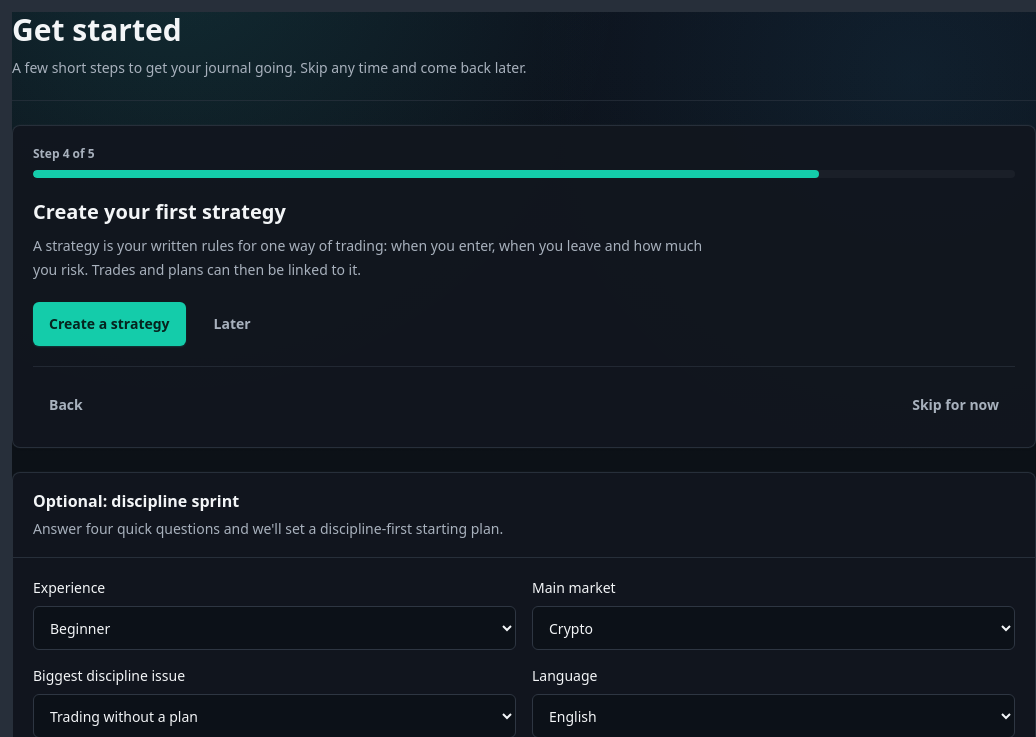
Test case: the history step › shows the step as done when the person already has trades of their own
This screenshot has width=1036, height=737.
Note: ... and Back shows it as done, with a way on.
Click the button "Back".
click(66, 405)  # box x1=33 y1=383 x2=99 y2=427
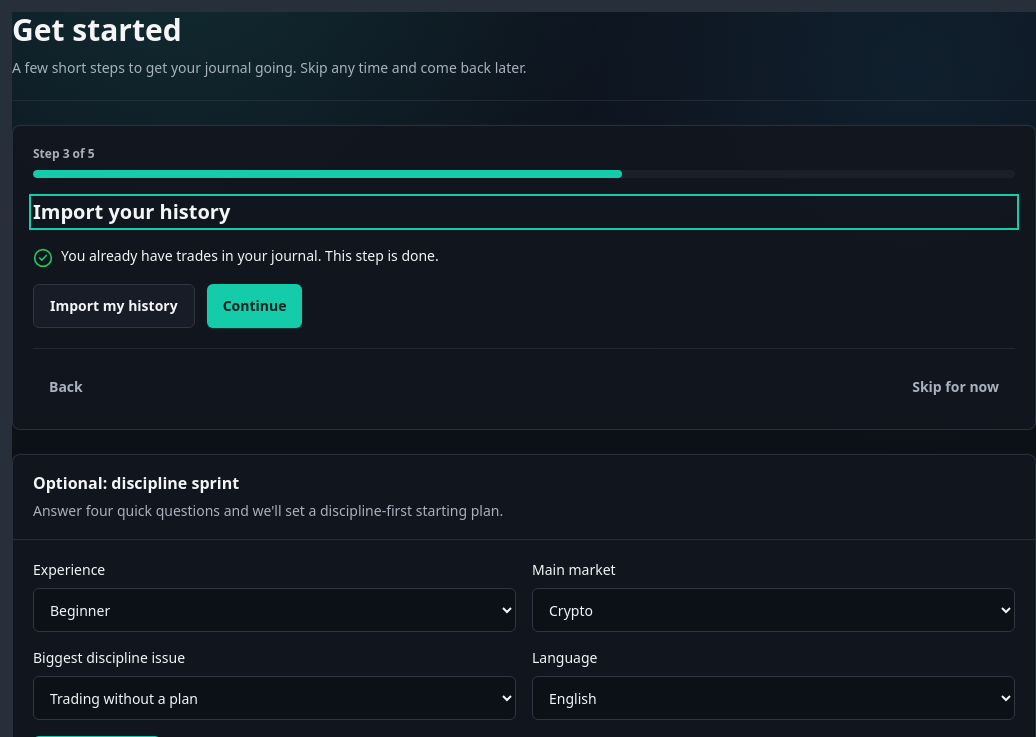
Expected: the text "You already have trades in your journal. This step is done." is shown, x1=61 y1=246 x2=439 y2=266
Click the button "Continue".
click(254, 306)  # box x1=207 y1=284 x2=302 y2=328
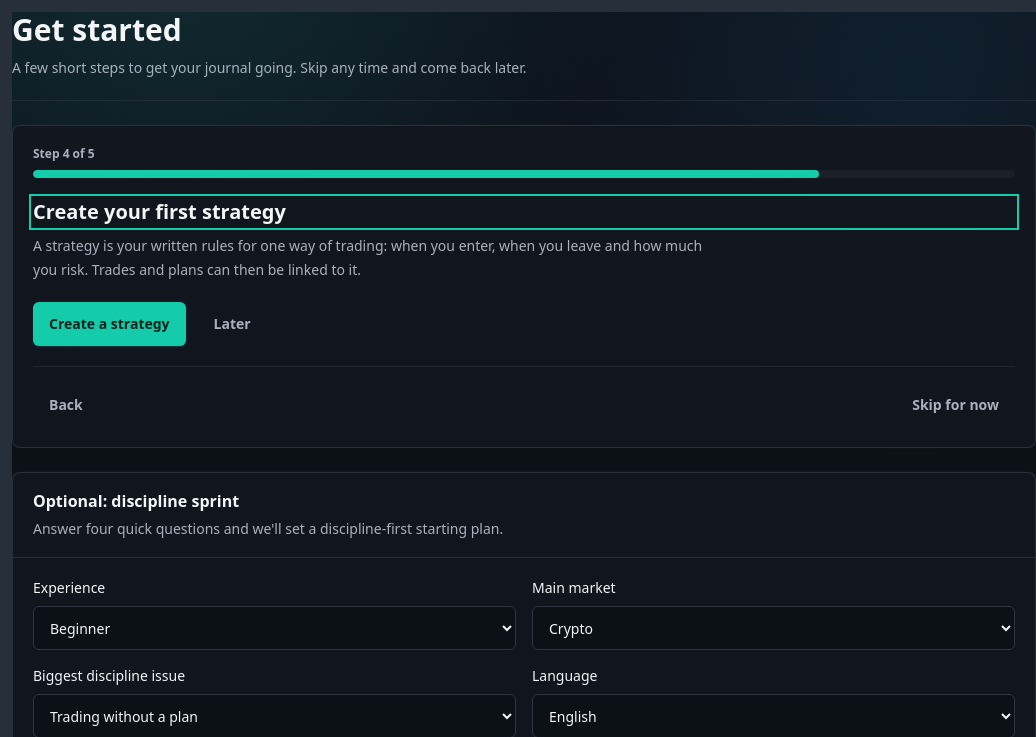
Expected: the heading "Create your first strategy" is shown, x1=33 y1=198 x2=286 y2=225
